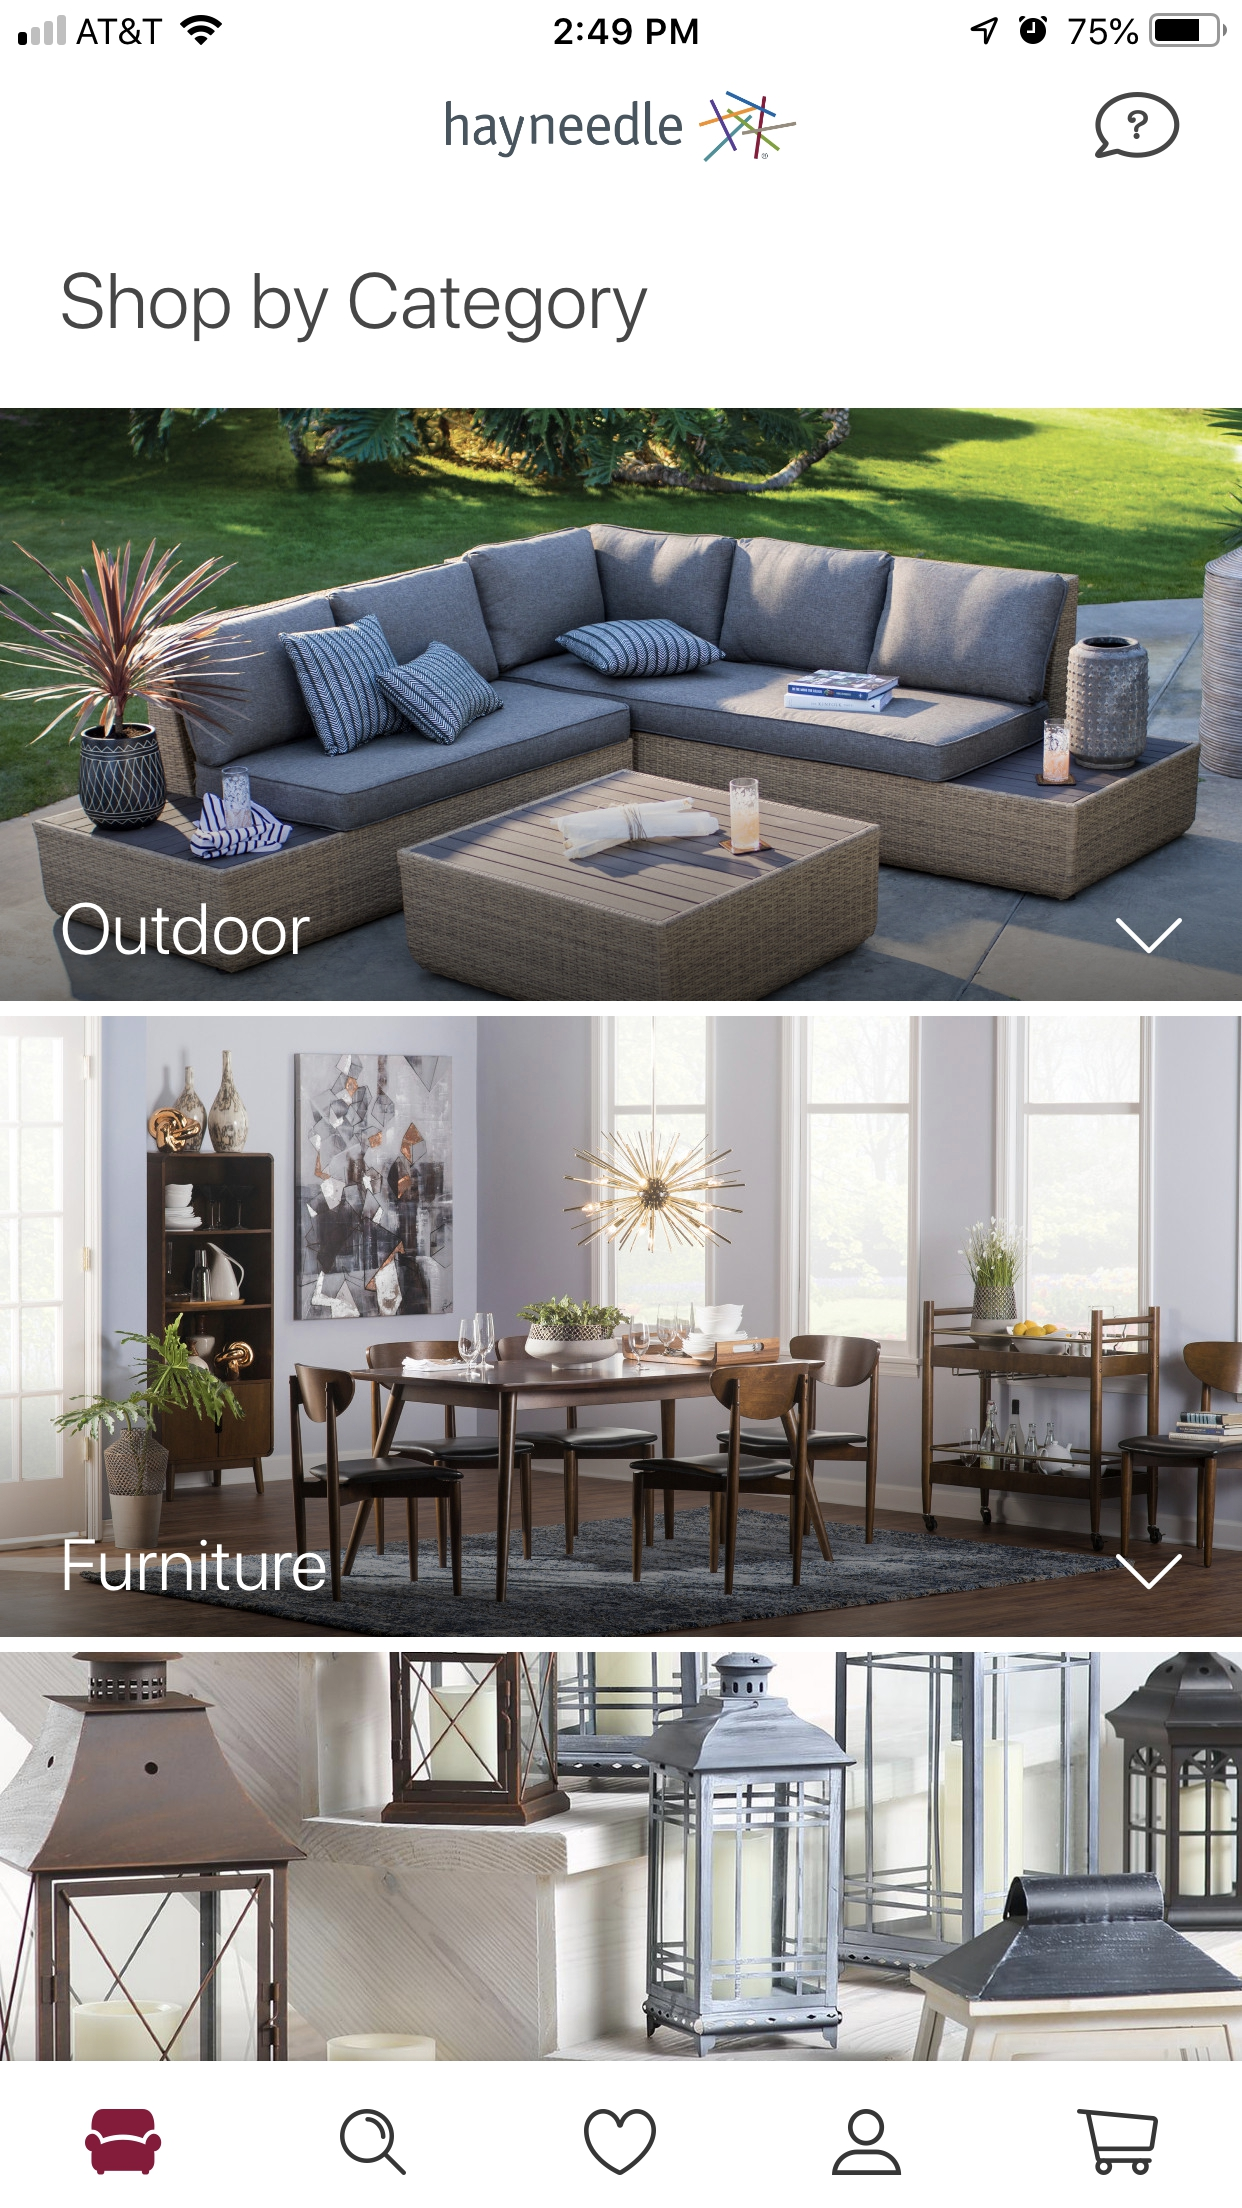Icon: (1093, 93, 1180, 161), (1077, 2109, 1159, 2175), (584, 2109, 657, 2175), (833, 2109, 902, 2175), (341, 2109, 406, 2175), (1116, 1553, 1181, 1589), (1116, 919, 1181, 954)
Image: (2, 1016, 1242, 1636), (2, 408, 1242, 1002), (2, 1651, 1242, 2062), (699, 93, 796, 162), (85, 2108, 162, 2175)
Text: (62, 271, 649, 344), (65, 1538, 328, 1592), (446, 102, 682, 158), (64, 902, 309, 955)
UpperTaskBar: (2, 2, 1242, 49)
